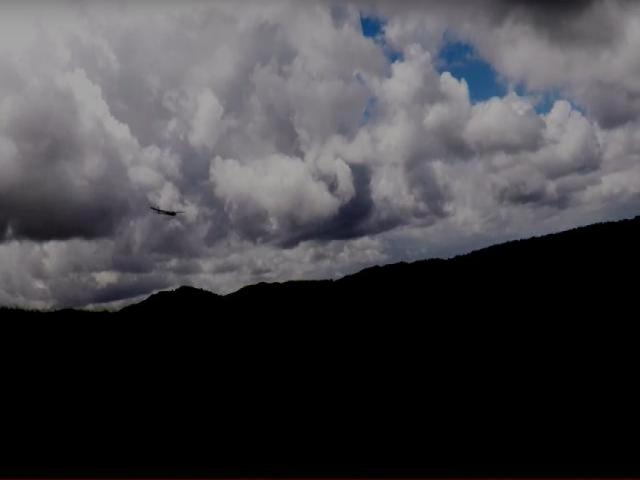iha: (145, 199, 191, 221)
